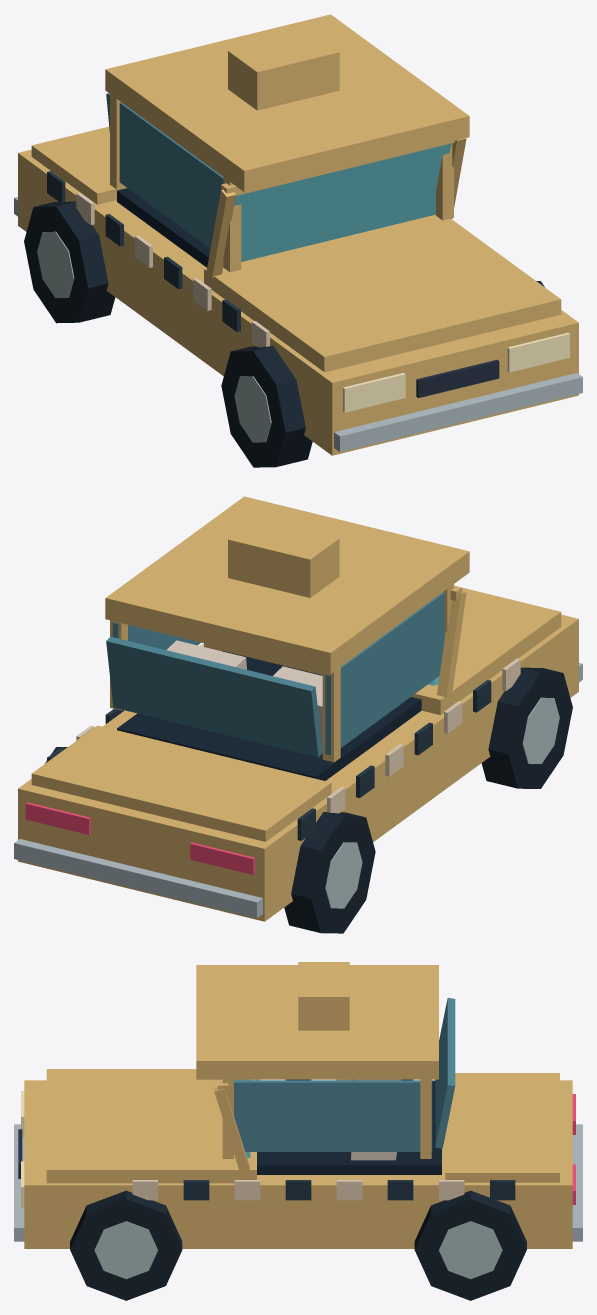
Rendered from vehicle-taxi.obj.
The picture shows the model from 3 angles, top to bottom: view 1: azimuth 30°, elevation 25°; view 2: azimuth 150°, elevation 25°; view 3: azimuth 270°, elevation 25°; orthographic projection. The views are drawn at different scales.
Visible parts, largest first — view 1: vehicle-taxi; view 2: vehicle-taxi; view 3: vehicle-taxi.
Boxes of the visible parts, x1,y1,x2,y2 form: vehicle-taxi: [14, 14, 582, 467]; vehicle-taxi: [14, 496, 582, 933]; vehicle-taxi: [14, 962, 582, 1300].
Bounding box in the file's own units: 2.28 × 2.25 × 4.46.
